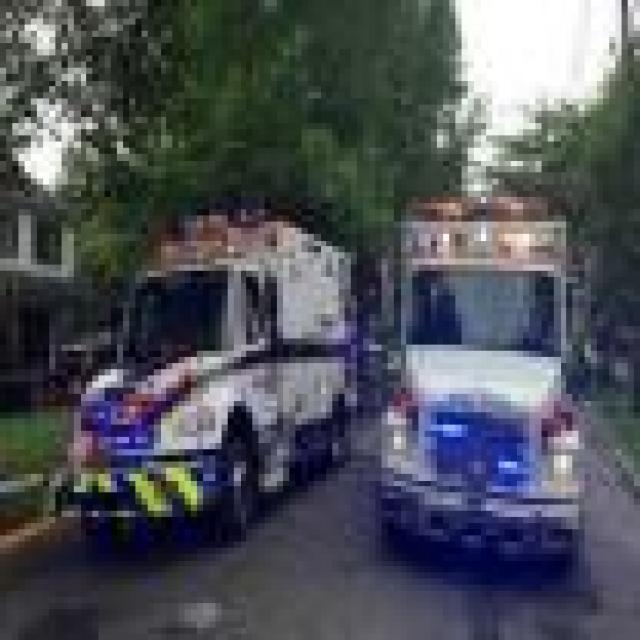emergency-vehicle: (59, 178, 606, 597)
